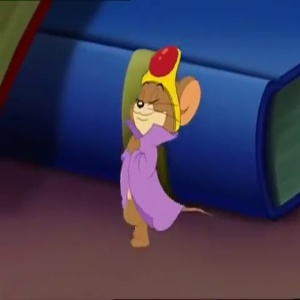Jerry: (127, 49, 201, 139)
